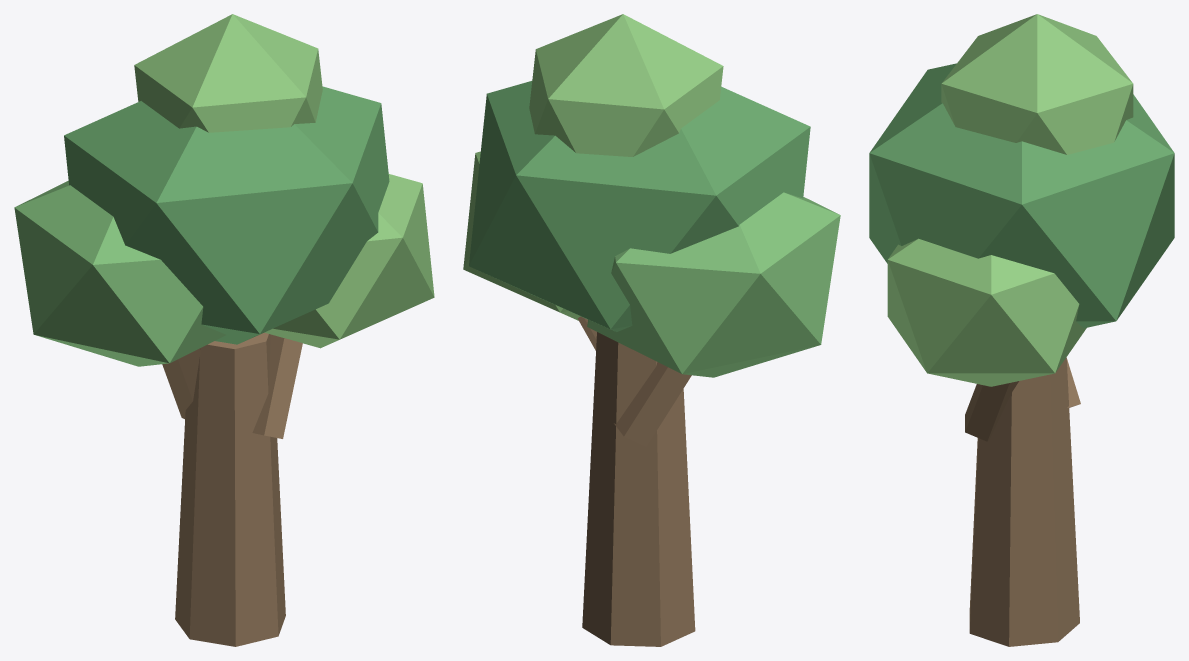
The model's file is TreeOak.glb.
3 views of the same model, side by side, from view 1: azimuth 30°, elevation 25°; view 2: azimuth 150°, elevation 25°; view 3: azimuth 270°, elevation 25° (orthographic). The views are drawn at different scales.
Visible parts, largest first — view 1: TreeOak; view 2: TreeOak; view 3: TreeOak.
Boxes of the visible parts, x1=… form: TreeOak: x1=14, y1=14, x2=434, y2=646; TreeOak: x1=463, y1=14, x2=840, y2=646; TreeOak: x1=869, y1=14, x2=1174, y2=646.
Bounding box in the file's own units: 4.18 × 6.6 × 2.98.
